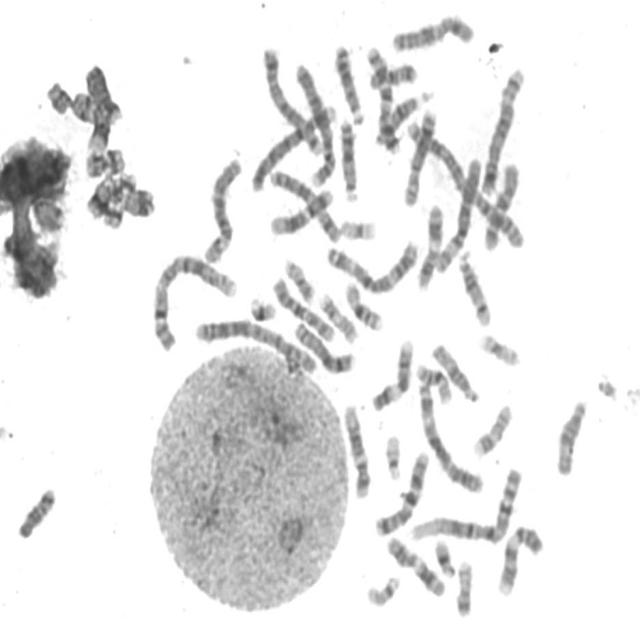A1: (408, 462, 525, 546), (149, 248, 241, 353)
A2: (404, 113, 529, 250), (192, 313, 319, 378)
A3: (415, 374, 487, 495), (325, 234, 422, 295)
B4: (248, 97, 338, 192), (291, 57, 339, 189)
B5: (260, 41, 326, 158), (478, 60, 528, 198)
C10: (270, 271, 338, 344), (480, 156, 522, 253)
C11: (384, 530, 448, 600), (414, 198, 446, 292)
C12: (266, 183, 336, 237), (340, 398, 374, 500)
C6: (432, 152, 486, 275), (200, 152, 244, 266)
C7: (372, 445, 432, 538), (364, 40, 402, 156)
C8: (400, 104, 440, 208), (292, 316, 358, 376)
C9: (494, 520, 546, 598), (368, 333, 416, 414)
D13: (331, 38, 366, 126), (336, 112, 361, 203)
D14: (371, 86, 435, 147), (455, 245, 494, 328)
D15: (430, 336, 482, 404), (552, 394, 590, 477)
E16: (342, 276, 386, 332), (413, 358, 454, 406)
E17: (470, 398, 515, 459), (316, 288, 359, 345)
E18: (14, 481, 59, 541), (366, 57, 420, 90)
F19: (476, 327, 524, 369), (337, 211, 379, 243)
F20: (280, 253, 318, 304), (452, 553, 476, 619)
G21: (431, 534, 459, 580), (247, 290, 279, 324)
G22: (363, 569, 403, 609), (382, 427, 404, 482)
X: (266, 166, 342, 244), (388, 8, 477, 54)
